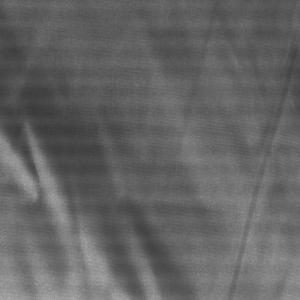Wrinkle: (1, 1, 208, 300), (226, 1, 300, 300)
